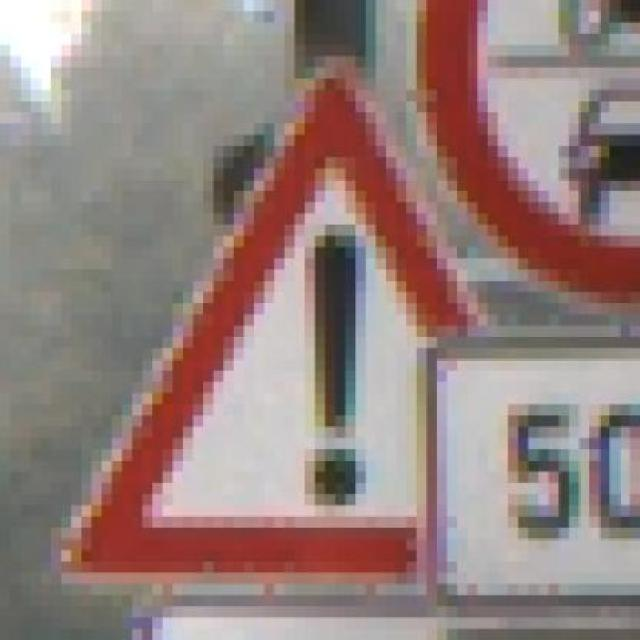Attention Please-: (20, 22, 600, 607)
